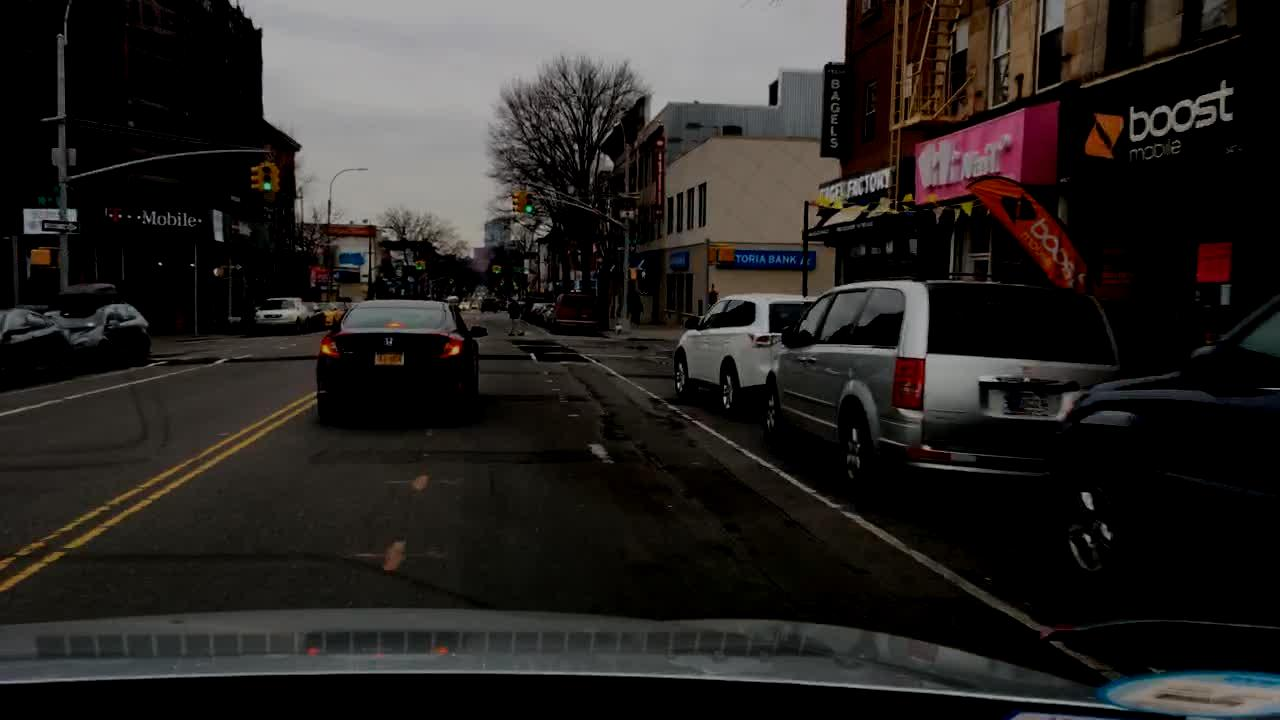Honda: (378, 332, 401, 357)
